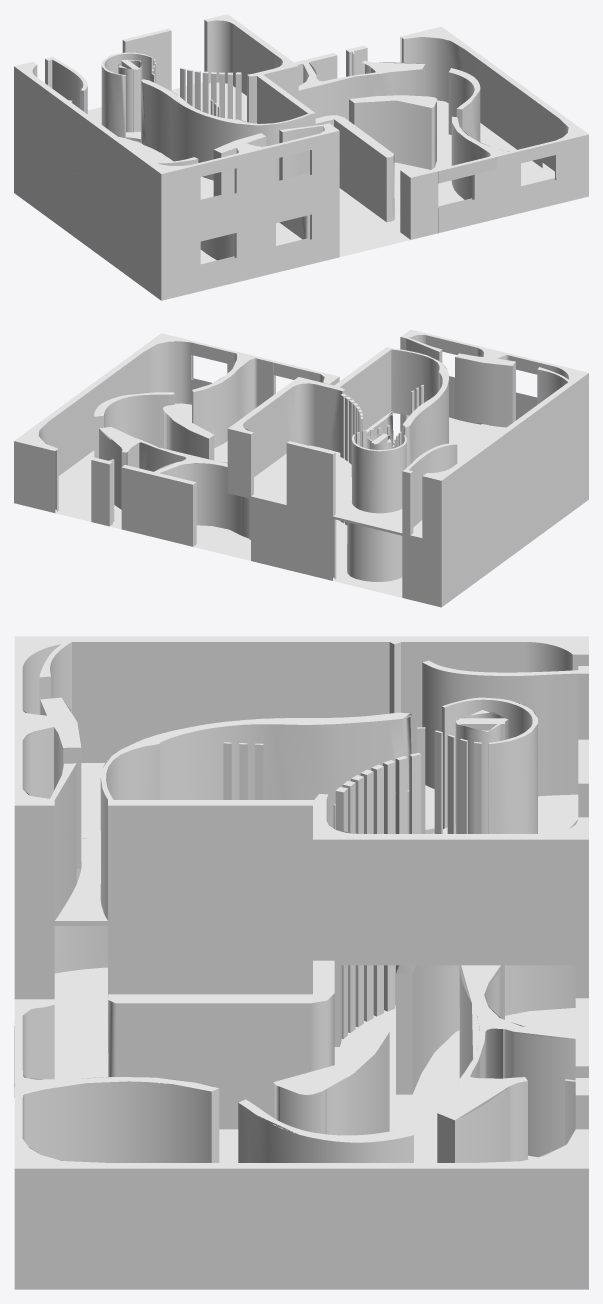
The model's file is interior_s.glb.
3 views of the same model, one above another, from view 1: azimuth 30°, elevation 25°; view 2: azimuth 150°, elevation 25°; view 3: azimuth 270°, elevation 25° (orthographic). The views are drawn at different scales.
Parts seen in each view (by area): view 1: interior_s; view 2: interior_s; view 3: interior_s.
Part boxes in pixels (<box>): interior_s: <box>14,14,588,300</box>; interior_s: <box>14,329,588,607</box>; interior_s: <box>14,636,588,1289</box>.
Size of the model in its own units: 0.9008 by 0.255 by 0.5385.
Materials: 1 (1 with a texture image).
